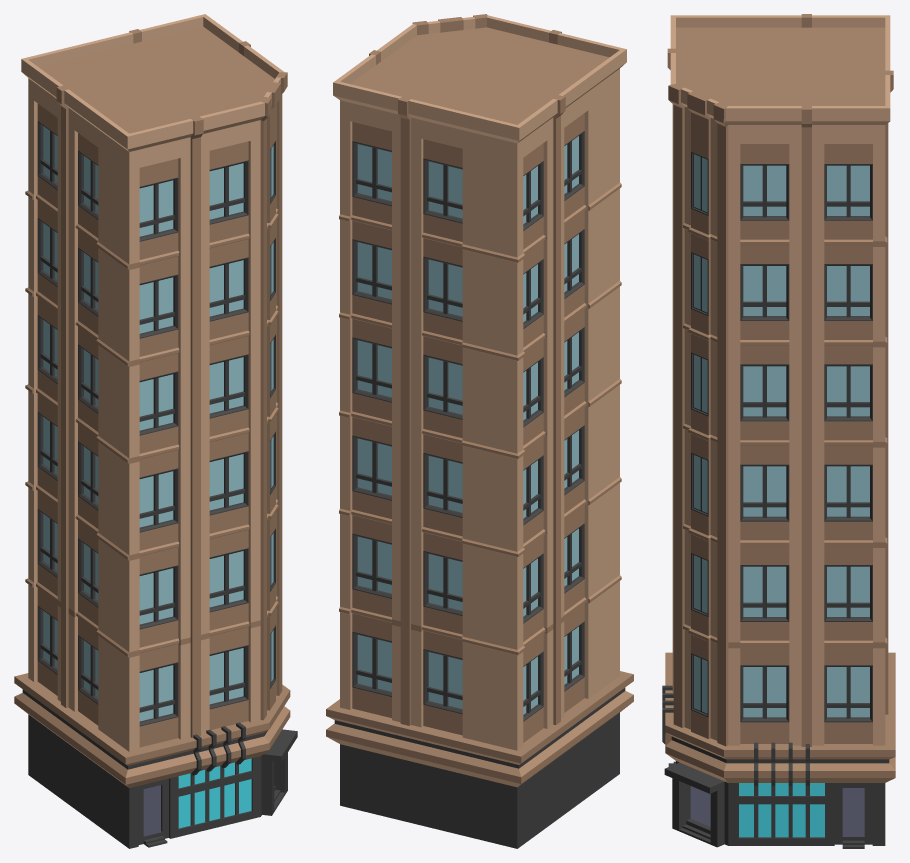
Rendered from SM_Buildings_House_08_V1.fbx.
The picture shows the model from 3 angles, left to right: view 1: azimuth 30°, elevation 25°; view 2: azimuth 150°, elevation 25°; view 3: azimuth 270°, elevation 25°; orthographic projection. The views are drawn at different scales.
Parts seen in each view (by area): view 1: SM_Buildings_House_08_V1; view 2: SM_Buildings_House_08_V1; view 3: SM_Buildings_House_08_V1.
Boxes of the visible parts, x1=… form: SM_Buildings_House_08_V1: x1=14, y1=14, x2=297, y2=848; SM_Buildings_House_08_V1: x1=326, y1=14, x2=633, y2=848; SM_Buildings_House_08_V1: x1=662, y1=14, x2=895, y2=848.
Bounding box in the file's own units: 11.15 × 39 × 11.15.
